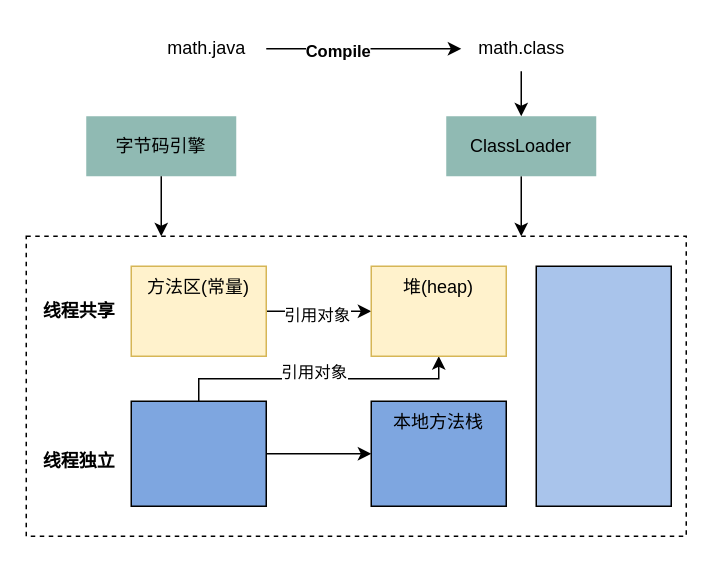
This 713x563 diagram has some shape labels left out. The shapes that lost their labels are listed below. From the top down, each one's box as (x1, y1, x2, y2) in pixels, then its label:
(535, 265, 671, 506): 程序计数器
(130, 400, 266, 506): 虚拟栈
